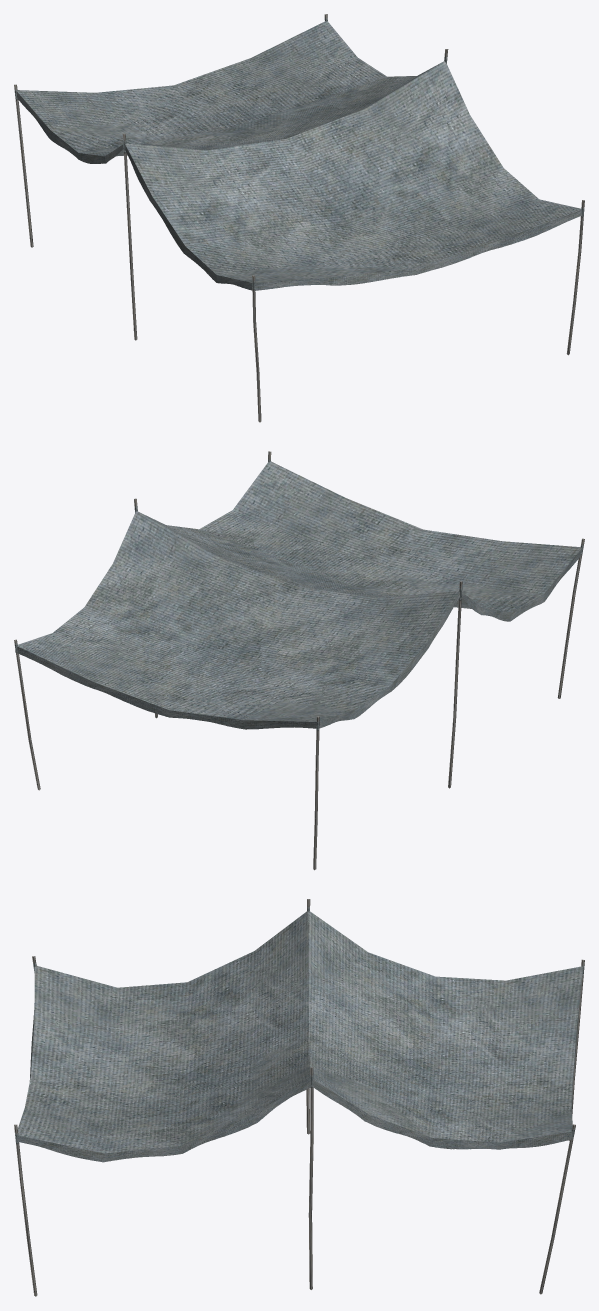
Rendered from poi_all_tent_med_l1.fbx.
3 views of the same model, one above another, from view 1: azimuth 30°, elevation 25°; view 2: azimuth 150°, elevation 25°; view 3: azimuth 270°, elevation 25° (orthographic). The views are drawn at different scales.
Parts seen in each view (by area): view 1: mesh_node; view 2: mesh_node; view 3: mesh_node.
Part boxes in pixels (x1,y1,x2,y2): mesh_node: (14, 14, 584, 422); mesh_node: (14, 451, 584, 870); mesh_node: (14, 899, 584, 1296).
Bounding box in the file's own units: 6.53 × 4.07 × 9.03.
